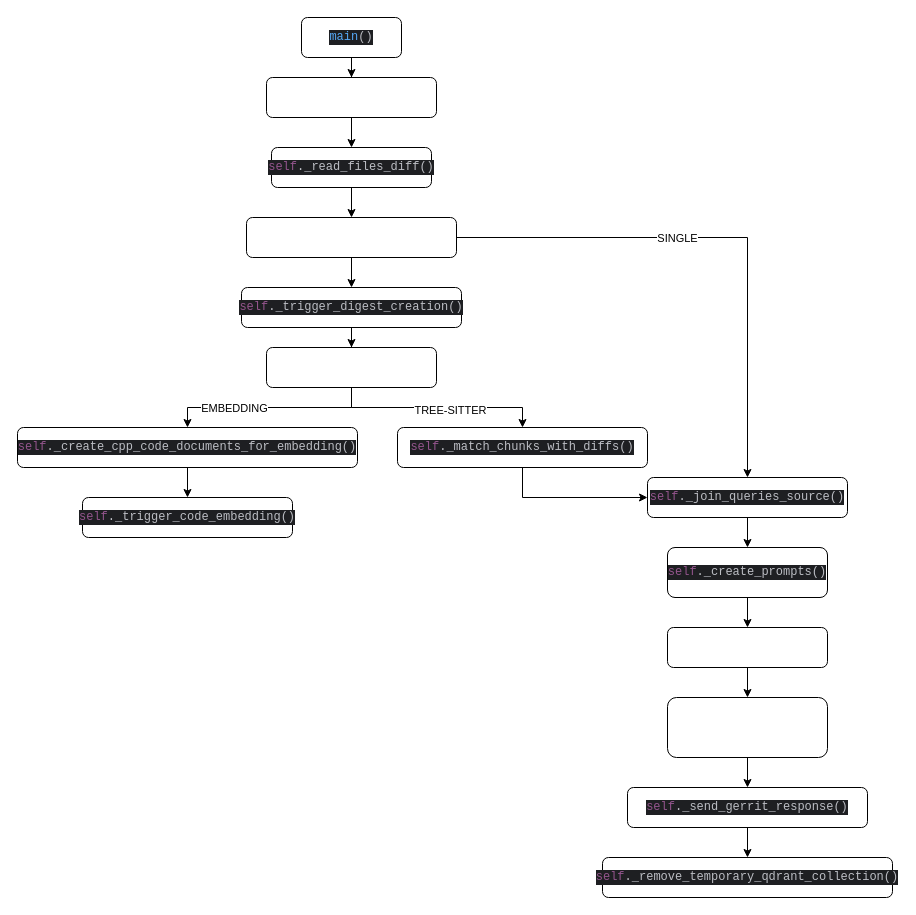
Some shapes in this 916 by 915 pixel diagram are drawn without their labels. Here are the shapes that lost their labels. From the top down, the centre of each, then its label:
At [351,97]: "self .get_changed_files()".
At [351,237]: "self ._decide_diff_processing()".
At [351,367]: "self ._process_cpp_code()".
At [747,647]: "self ._send_queries()".
At [747,727]: "pipelineReviewAssistant".
